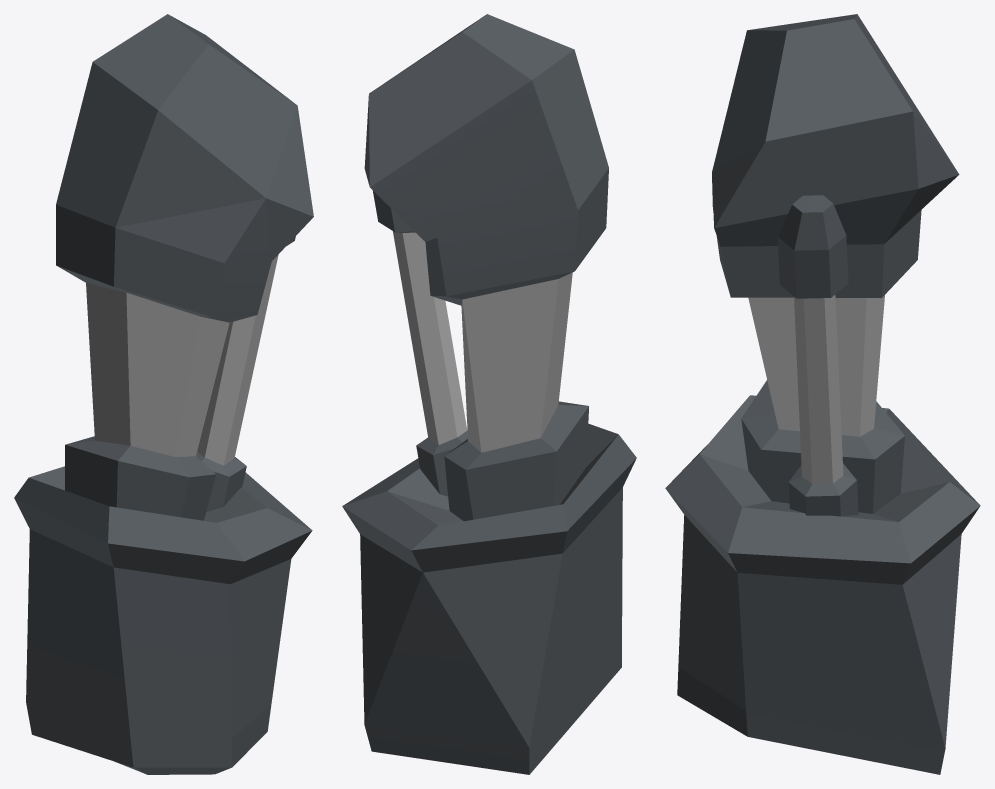
Rendered from Parts_01.fbx.
The picture shows the model from 3 angles, left to right: view 1: azimuth 30°, elevation 25°; view 2: azimuth 150°, elevation 25°; view 3: azimuth 270°, elevation 25°; orthographic projection. The views are drawn at different scales.
Visible parts, largest first — view 1: SM_Prop_Robotic_Part_09; view 2: SM_Prop_Robotic_Part_09; view 3: SM_Prop_Robotic_Part_09.
Part boxes in pixels (x1,y1,x2,y2): SM_Prop_Robotic_Part_09: (14, 14, 313, 774); SM_Prop_Robotic_Part_09: (342, 14, 636, 774); SM_Prop_Robotic_Part_09: (665, 14, 980, 774).
Bounding box in the file's own units: 15.15 × 43.69 × 17.07.
